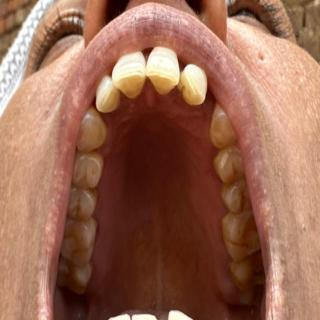UL1BC_mdecay: (212, 147, 244, 183)
UL1M_mdecay: (221, 213, 261, 262)
UL2BC_mdecay: (221, 181, 252, 213)
UL2M_sdecay: (227, 260, 265, 290)
ULCI_healthy: (146, 47, 180, 94)
ULC_healthy: (210, 104, 238, 149)
ULLI_mdecay: (178, 64, 206, 105)
UR1BC_healthy: (73, 154, 104, 190)
UR1M_mdecay: (63, 221, 97, 264)
UR2BC_sdecay: (68, 192, 97, 220)
UR2M_mdecay: (57, 263, 91, 295)
URCI_healthy: (112, 53, 146, 97)
URC_healthy: (77, 107, 107, 152)
URLI_healthy: (95, 76, 119, 112)
